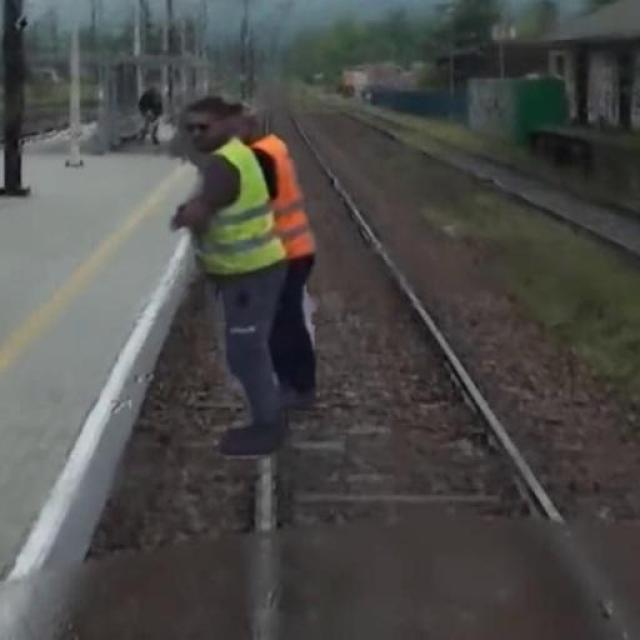people: (161, 97, 304, 464)
